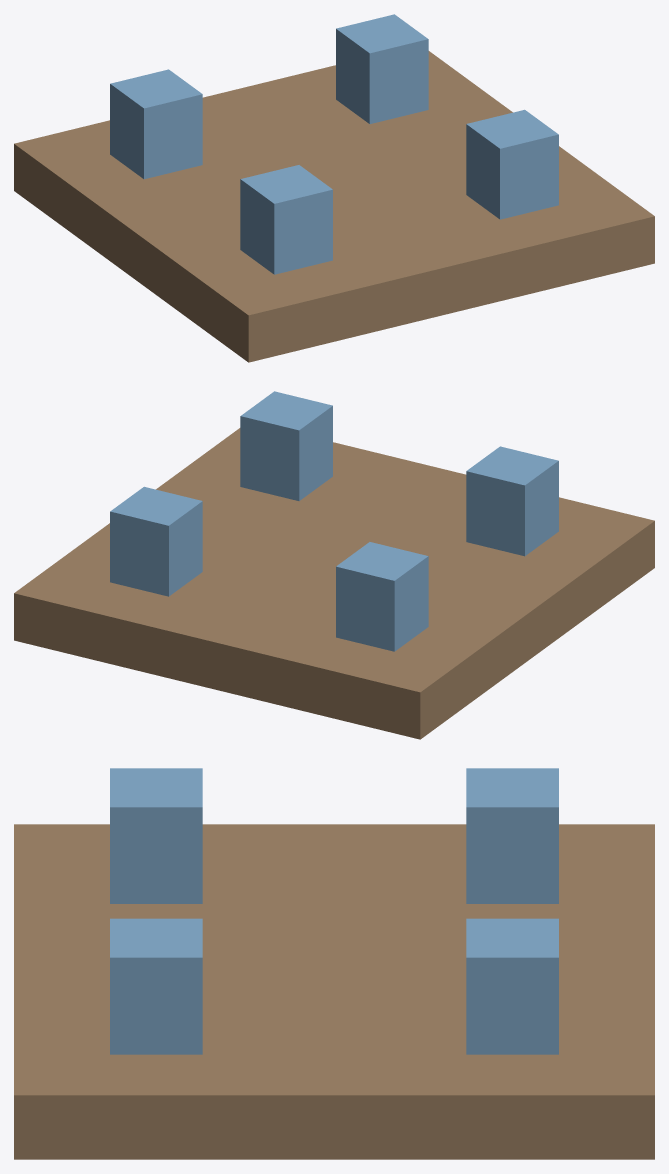
File: Prop_DS_Crop_Kelpweed_S1_V3.glb
3 views of the same model, one above another, from view 1: azimuth 30°, elevation 25°; view 2: azimuth 150°, elevation 25°; view 3: azimuth 270°, elevation 25° (orthographic). The views are drawn at different scales.
Parts seen in each view (by area): view 1: Prop_DS_Crop_Kelpweed_S1_V3; view 2: Prop_DS_Crop_Kelpweed_S1_V3; view 3: Prop_DS_Crop_Kelpweed_S1_V3.
Boxes of the visible parts, left/top/right/bottom form: Prop_DS_Crop_Kelpweed_S1_V3: left=14, top=14, right=654, bottom=362; Prop_DS_Crop_Kelpweed_S1_V3: left=14, top=391, right=654, bottom=739; Prop_DS_Crop_Kelpweed_S1_V3: left=14, top=768, right=654, bottom=1159.
Size of the model in its own units: 0.9 by 0.25 by 0.9.
